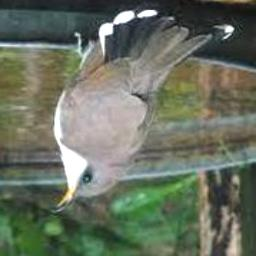Cuckoo: (49, 11, 233, 212)
